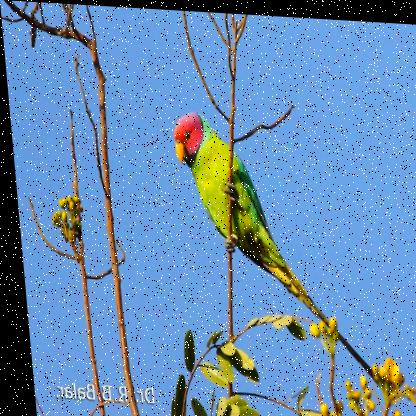Burung: (170, 107, 376, 385)
